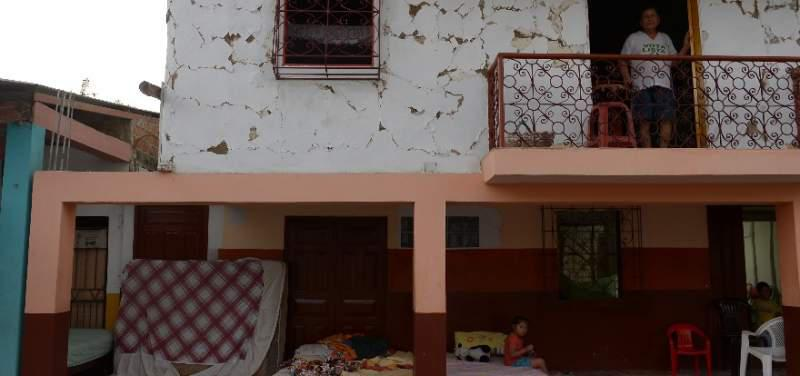minor: (26, 2, 800, 375)
